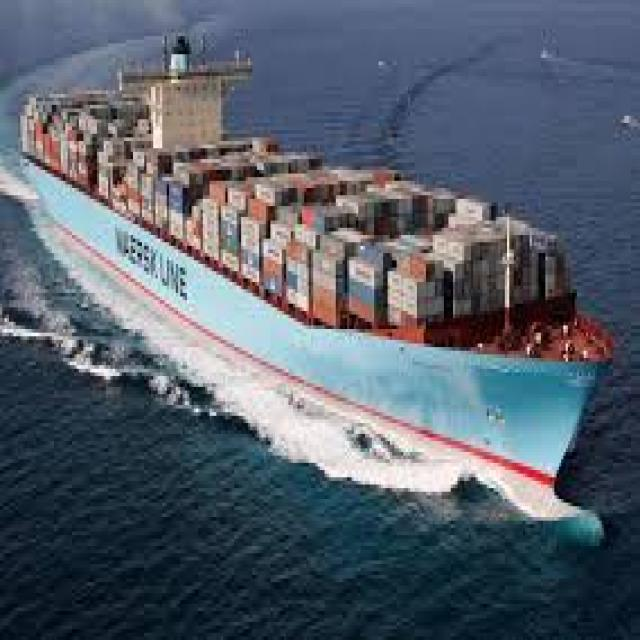cargoship: (20, 37, 595, 516)
